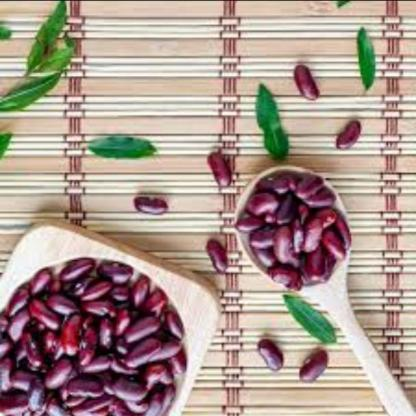fasol: (0, 242, 182, 416), (232, 162, 352, 292), (199, 143, 239, 194), (289, 58, 327, 106), (251, 335, 290, 377), (294, 342, 329, 387), (204, 231, 233, 278), (326, 115, 360, 155), (130, 195, 182, 218)
